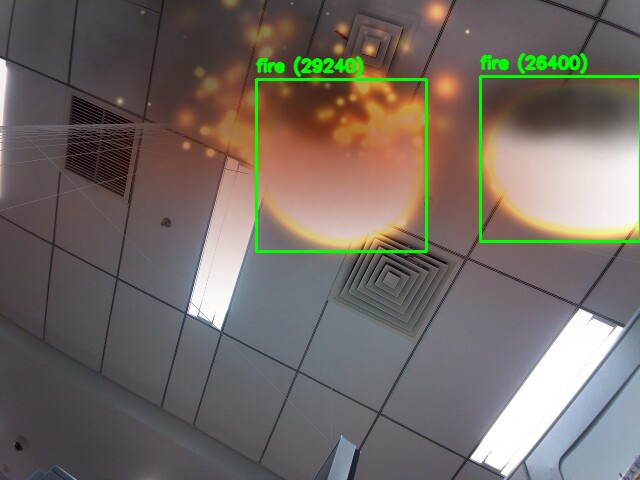fire: (256, 79, 426, 251), (480, 76, 640, 241)
